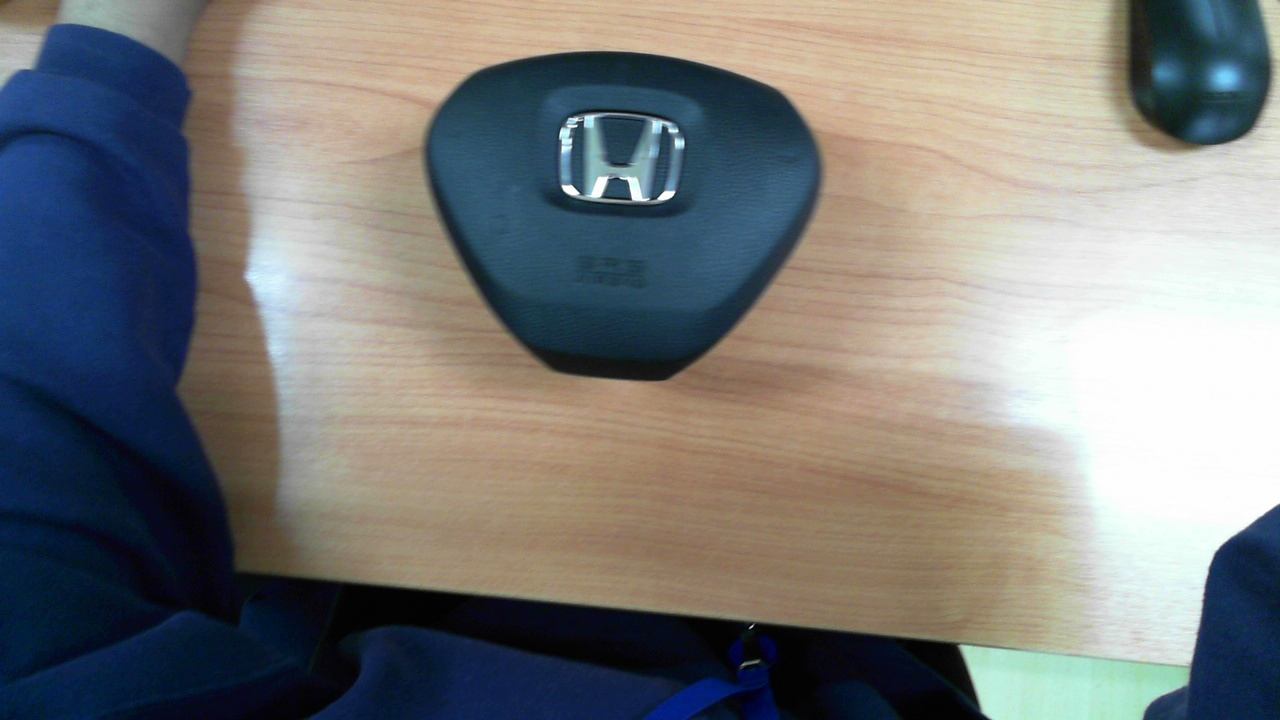Airbag: (424, 50, 821, 381)
